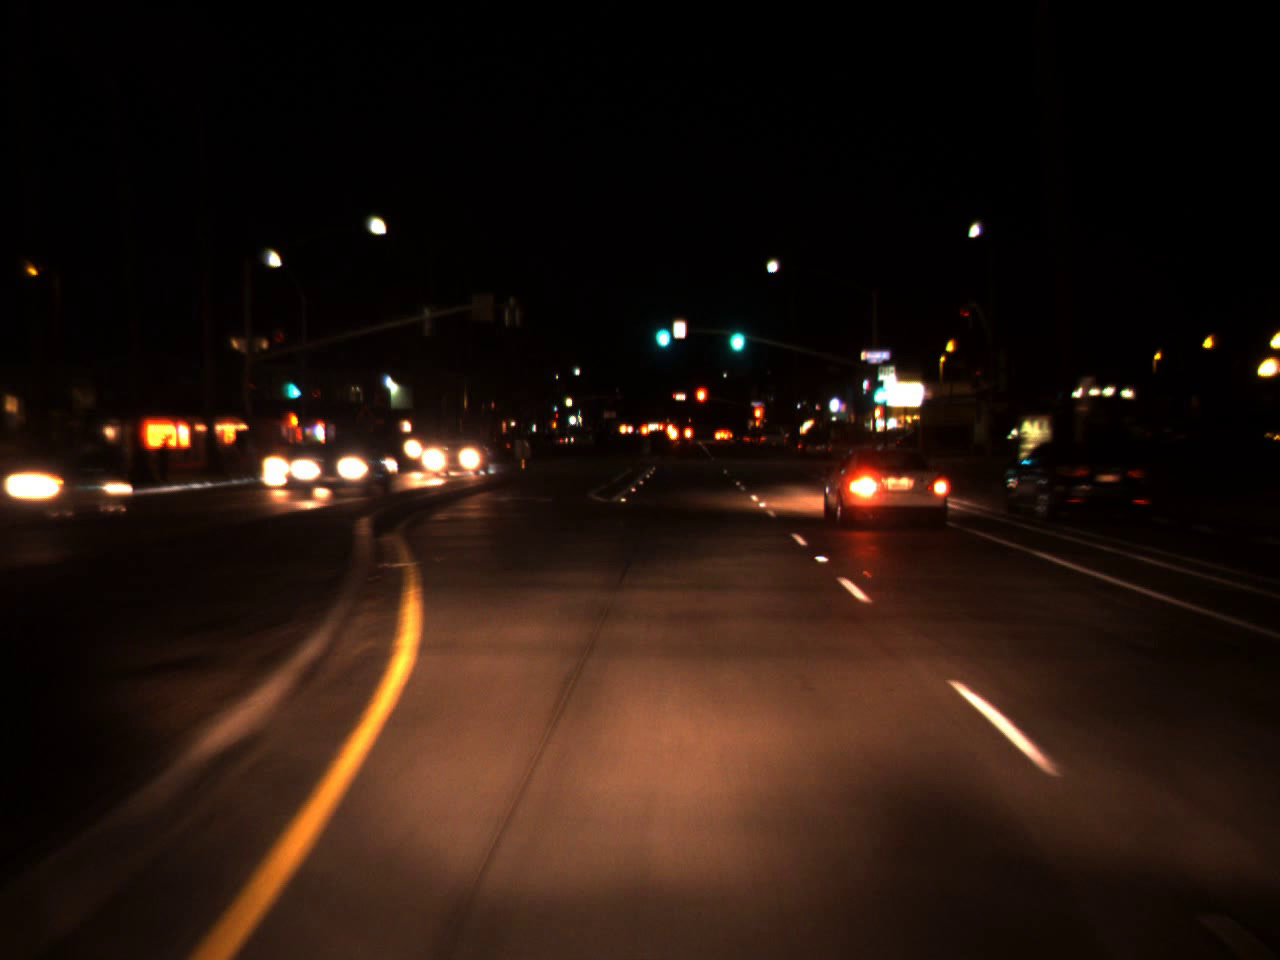go: (723, 310, 748, 358), (650, 306, 673, 354), (866, 372, 885, 408), (284, 363, 298, 405)
stop: (693, 385, 708, 420), (753, 405, 763, 432)
